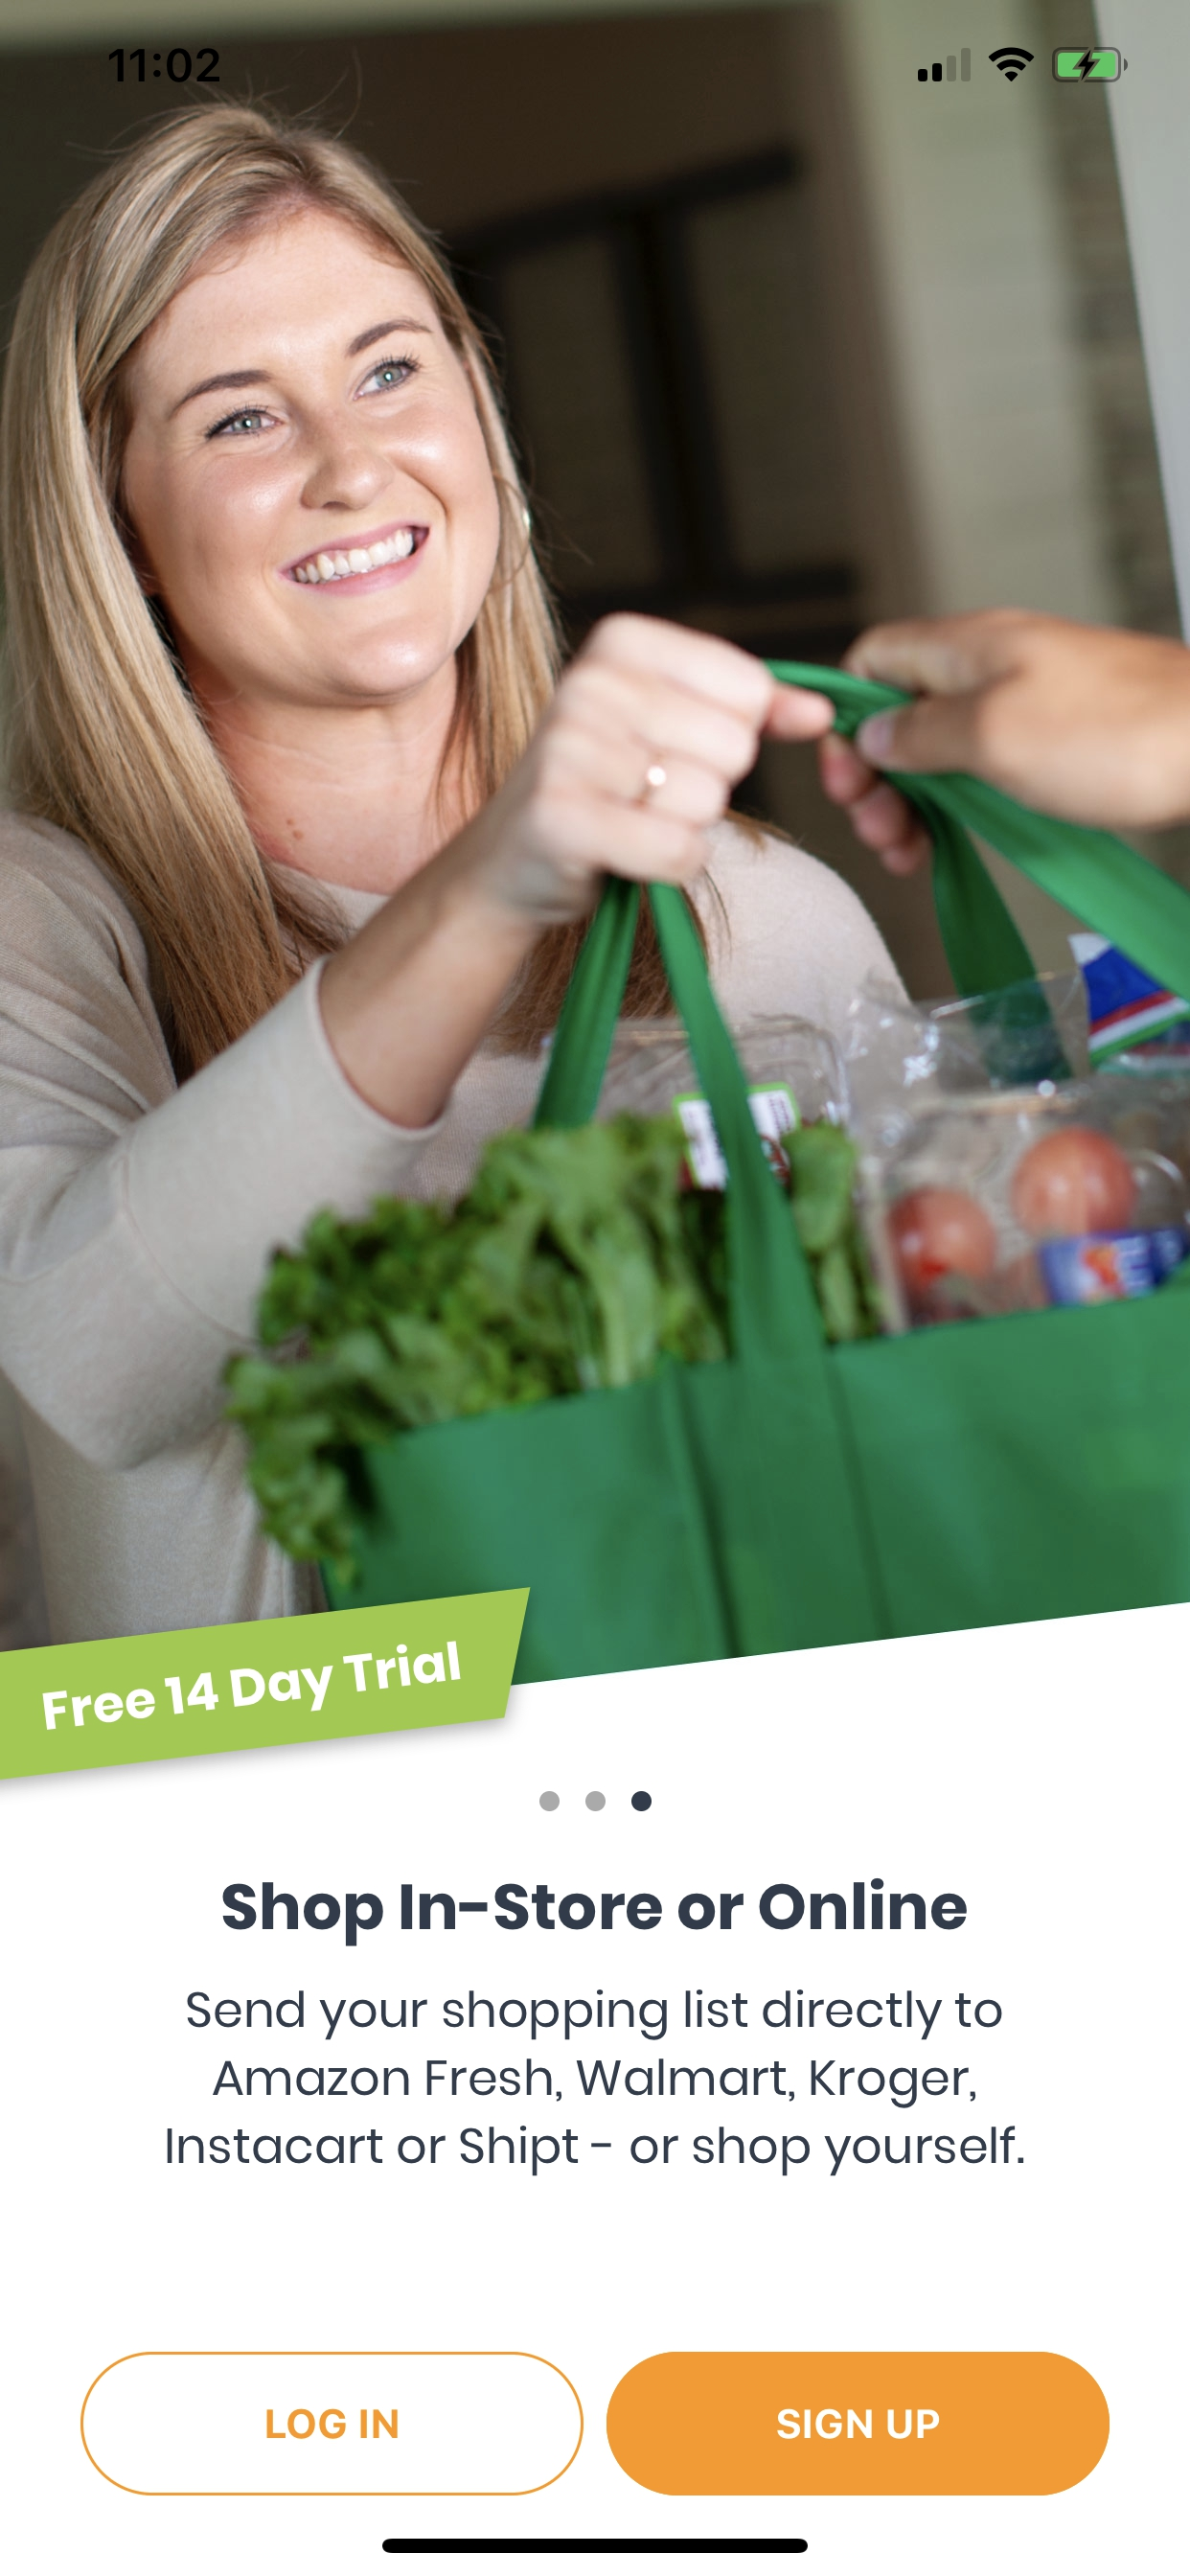BackgroundImage: (2, 2, 1190, 1782)
PageIndicator: (539, 1791, 651, 1810)
Text: (166, 1988, 1024, 2177), (222, 1878, 966, 1947)
TextButton: (605, 2351, 1109, 2495), (81, 2351, 583, 2495)
UpperTaskBar: (108, 48, 1128, 84)
